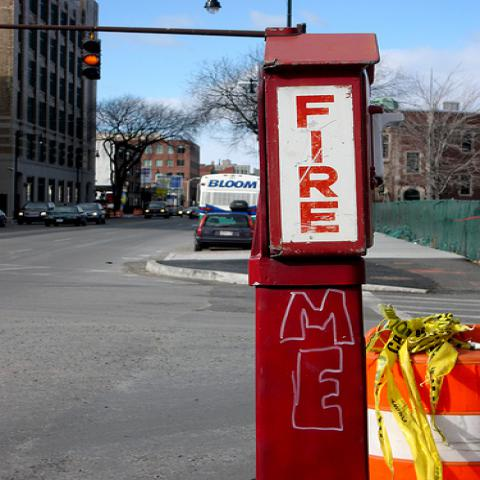car: (194, 214, 255, 251), (42, 206, 88, 227), (16, 202, 56, 224), (77, 203, 105, 226), (146, 201, 172, 220), (178, 206, 199, 219)
truck: (199, 171, 261, 223)
